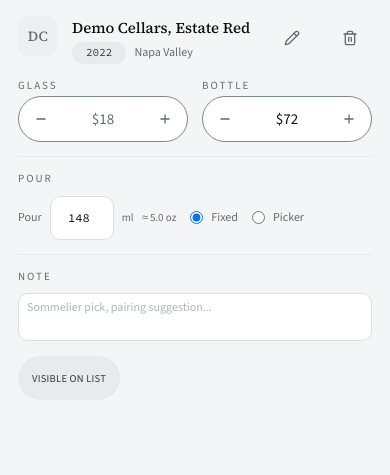
Scenario: WineRow mobile card › keeps the rename reachable on its own control
The width and height of the screenshot is (390, 475).
Click the button named "Rename Estate Red" at (292, 38), box [270,16,314,60]
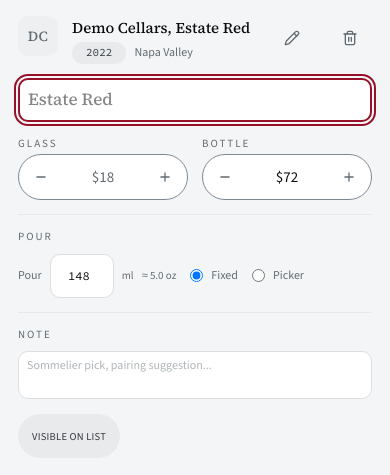
Check: the field named "Display name for Estate Red" is shown, box [18,78,372,122]
